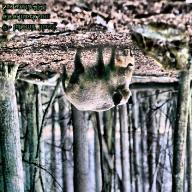boar: (59, 65, 150, 126)
